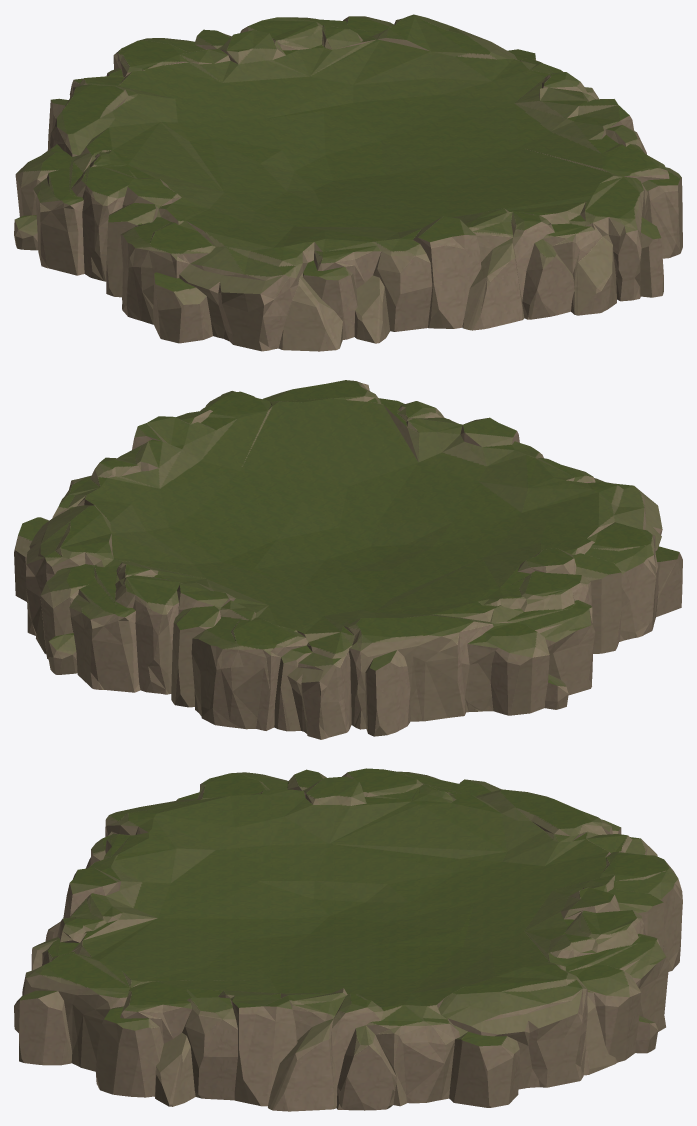
The model's file is SM_Env_Ground_Cliff_Large_02.glb.
The picture shows the model from 3 angles, top to bottom: view 1: azimuth 30°, elevation 25°; view 2: azimuth 150°, elevation 25°; view 3: azimuth 270°, elevation 25°; orthographic projection. The views are drawn at different scales.
Visible parts, largest first — view 1: SM_Env_Ground_Cliff_Large_02; view 2: SM_Env_Ground_Cliff_Large_02; view 3: SM_Env_Ground_Cliff_Large_02.
Part boxes in pixels (x1,y1,x2,y2): SM_Env_Ground_Cliff_Large_02: [14, 14, 682, 351]; SM_Env_Ground_Cliff_Large_02: [14, 380, 682, 739]; SM_Env_Ground_Cliff_Large_02: [14, 768, 682, 1111].
Bounding box in the file's own units: 41.47 × 6.68 × 42.67.
Materials: 1 (1 with a texture image).
